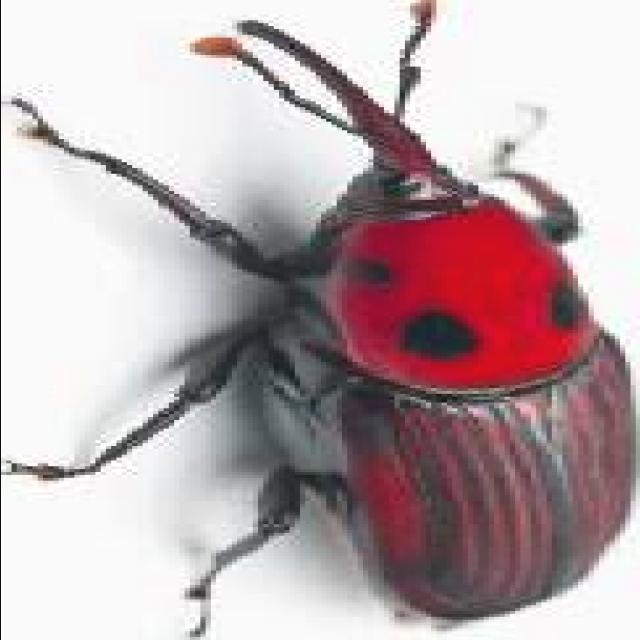Red-palm-weevil: (5, 5, 639, 633)
